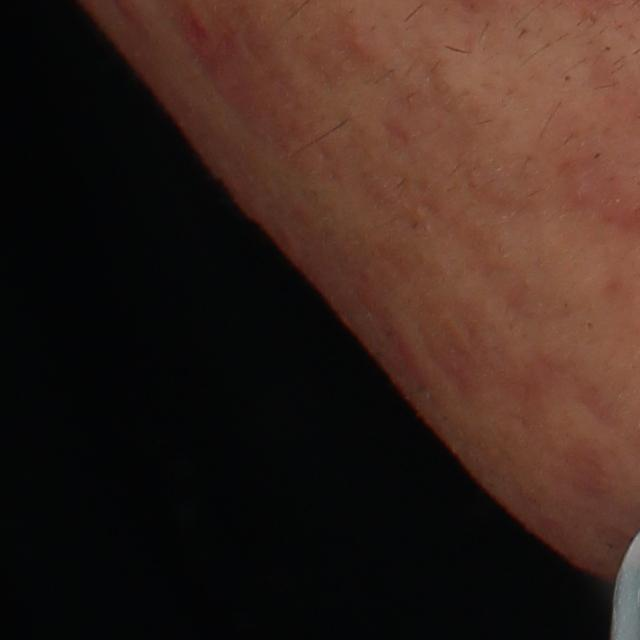papule: (337, 14, 387, 59)
